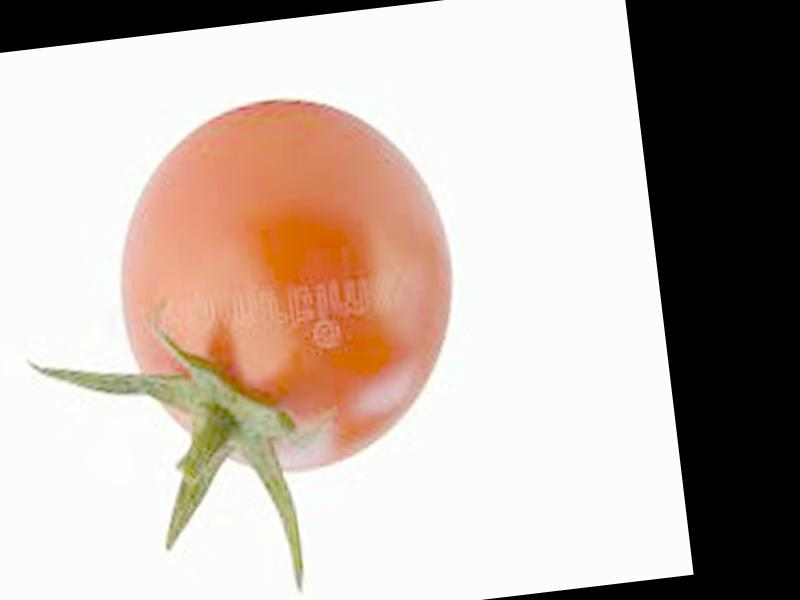Tomato: (103, 80, 474, 487)
